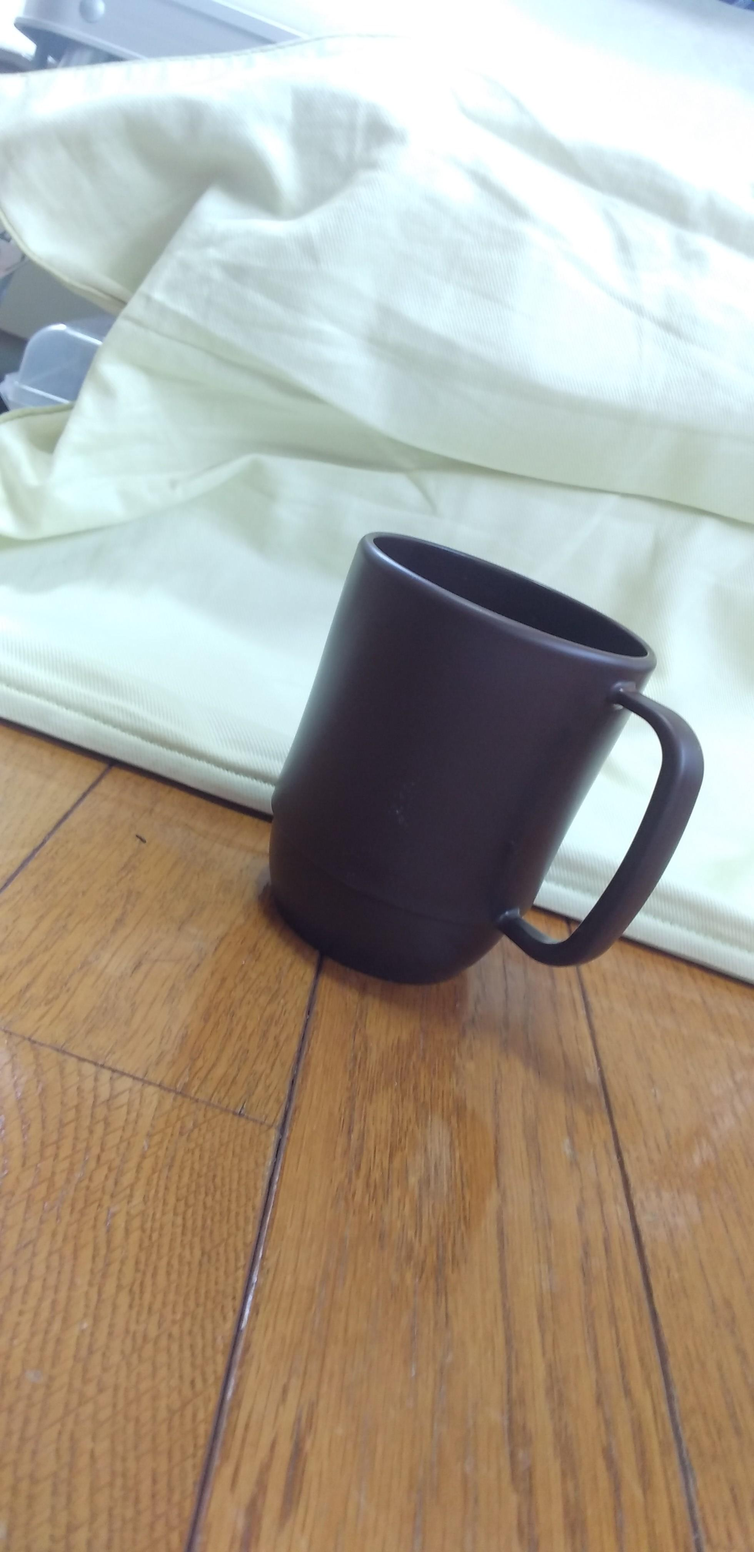mug-real100-3d100: (269, 534, 703, 984)
